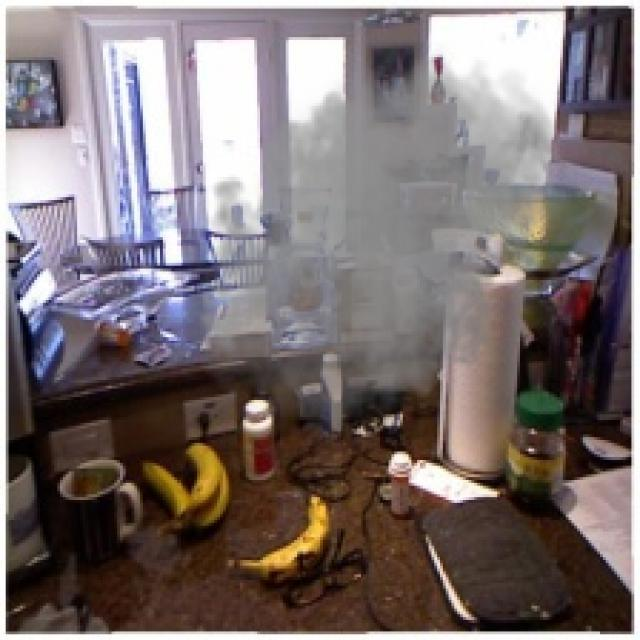Smoke: (185, 42, 566, 452)
